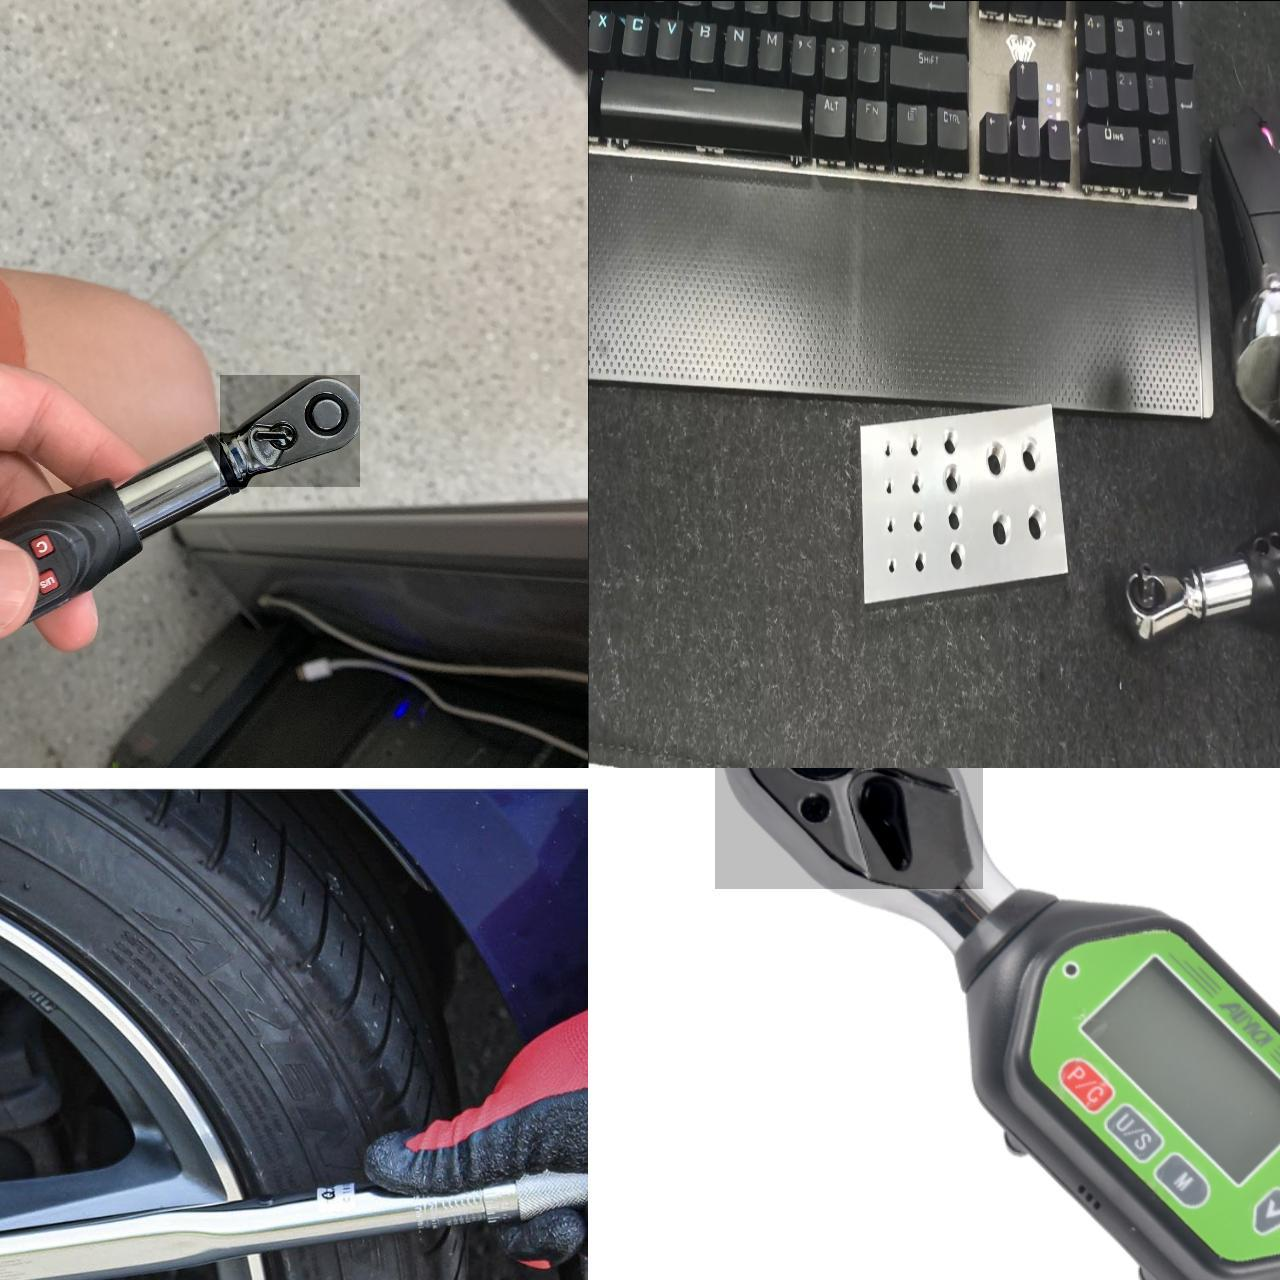Tool: (714, 768, 982, 888), (219, 374, 359, 486)
hole: (986, 444, 1021, 479), (1019, 440, 1051, 476), (1026, 508, 1057, 543), (994, 515, 1023, 546), (947, 508, 973, 535), (945, 467, 972, 492), (941, 433, 967, 457), (951, 545, 975, 570), (874, 442, 898, 464), (908, 474, 930, 495), (910, 516, 931, 536), (911, 552, 932, 571), (906, 441, 925, 461), (885, 517, 904, 537), (886, 556, 905, 574), (885, 477, 903, 495)
